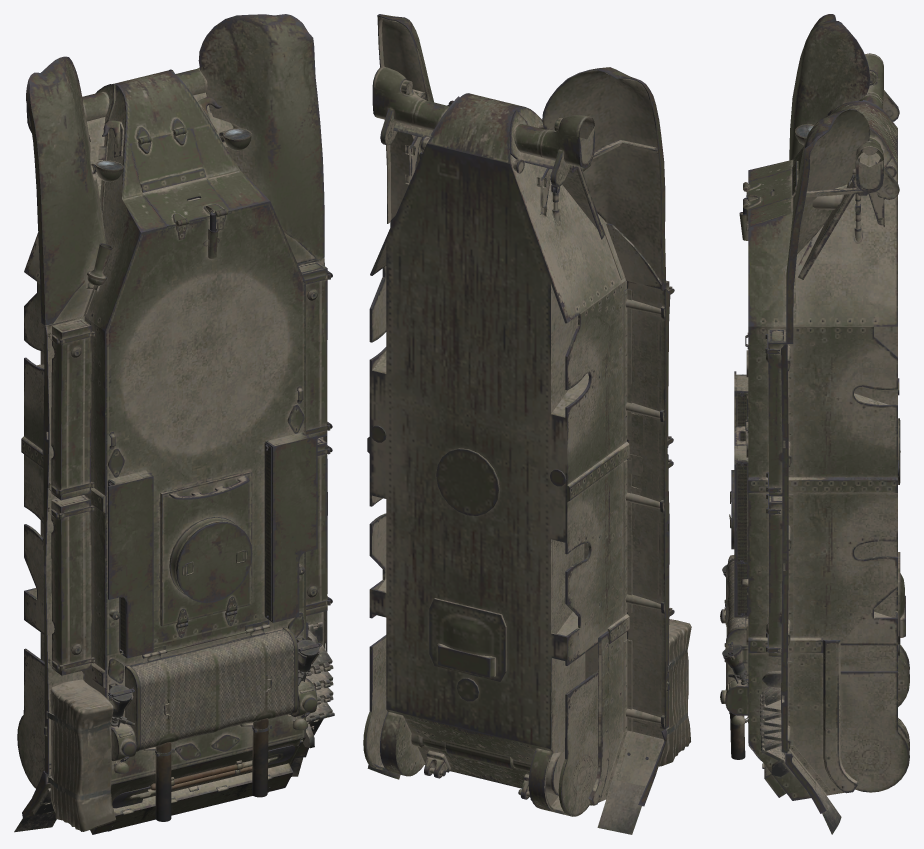
Rendered from Hull.glb.
The picture shows the model from 3 angles, left to right: view 1: azimuth 30°, elevation 25°; view 2: azimuth 150°, elevation 25°; view 3: azimuth 270°, elevation 25°; orthographic projection. The views are drawn at different scales.
Visible parts, largest first — view 1: set_0_group_0; view 2: set_0_group_0; view 3: set_0_group_0.
Part boxes in pixels (x1=…): set_0_group_0: x1=14, y1=14, x2=334, y2=834; set_0_group_0: x1=363, y1=14, x2=691, y2=834; set_0_group_0: x1=720, y1=14, x2=909, y2=834.
Bounding box in the file's own units: 2.22 × 5.78 × 1.41.
Materials: 1 (1 with a texture image).
